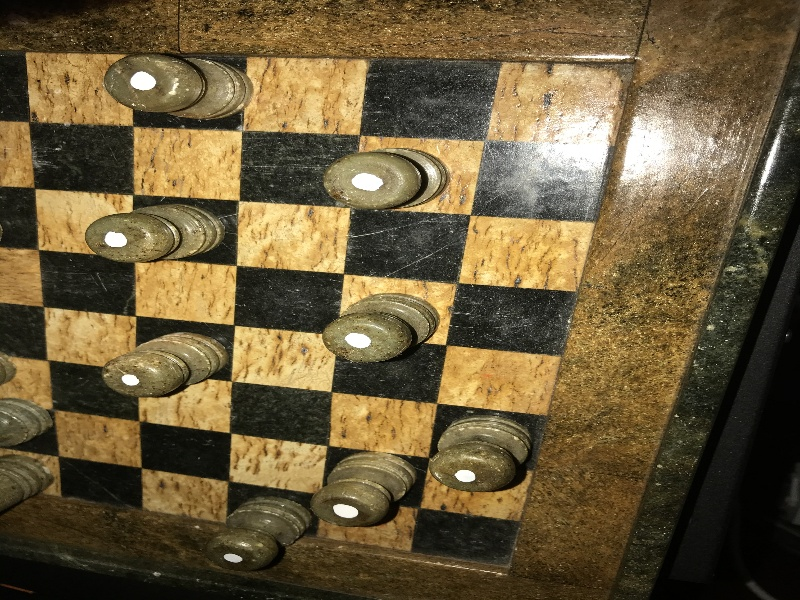WhitePawn: (104, 53, 252, 120), (103, 332, 229, 397), (323, 294, 440, 363), (311, 451, 416, 527), (86, 205, 223, 263), (429, 415, 529, 492), (324, 149, 447, 210), (206, 496, 310, 568)
